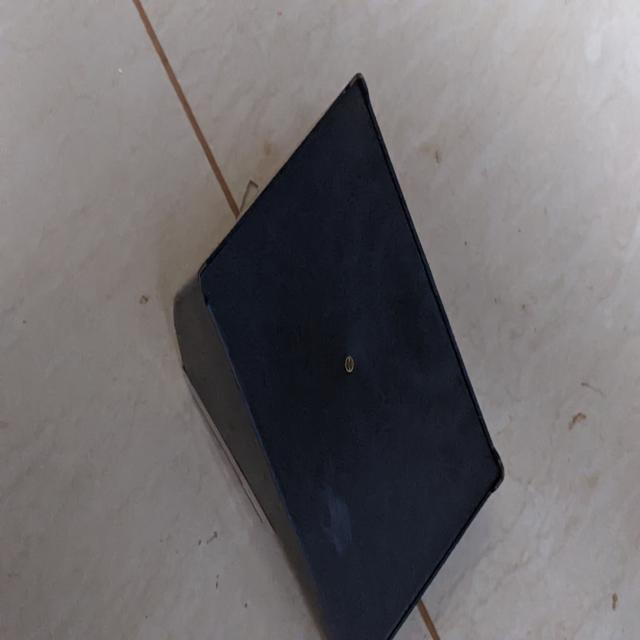Ammeter Analog: (162, 57, 504, 637)
